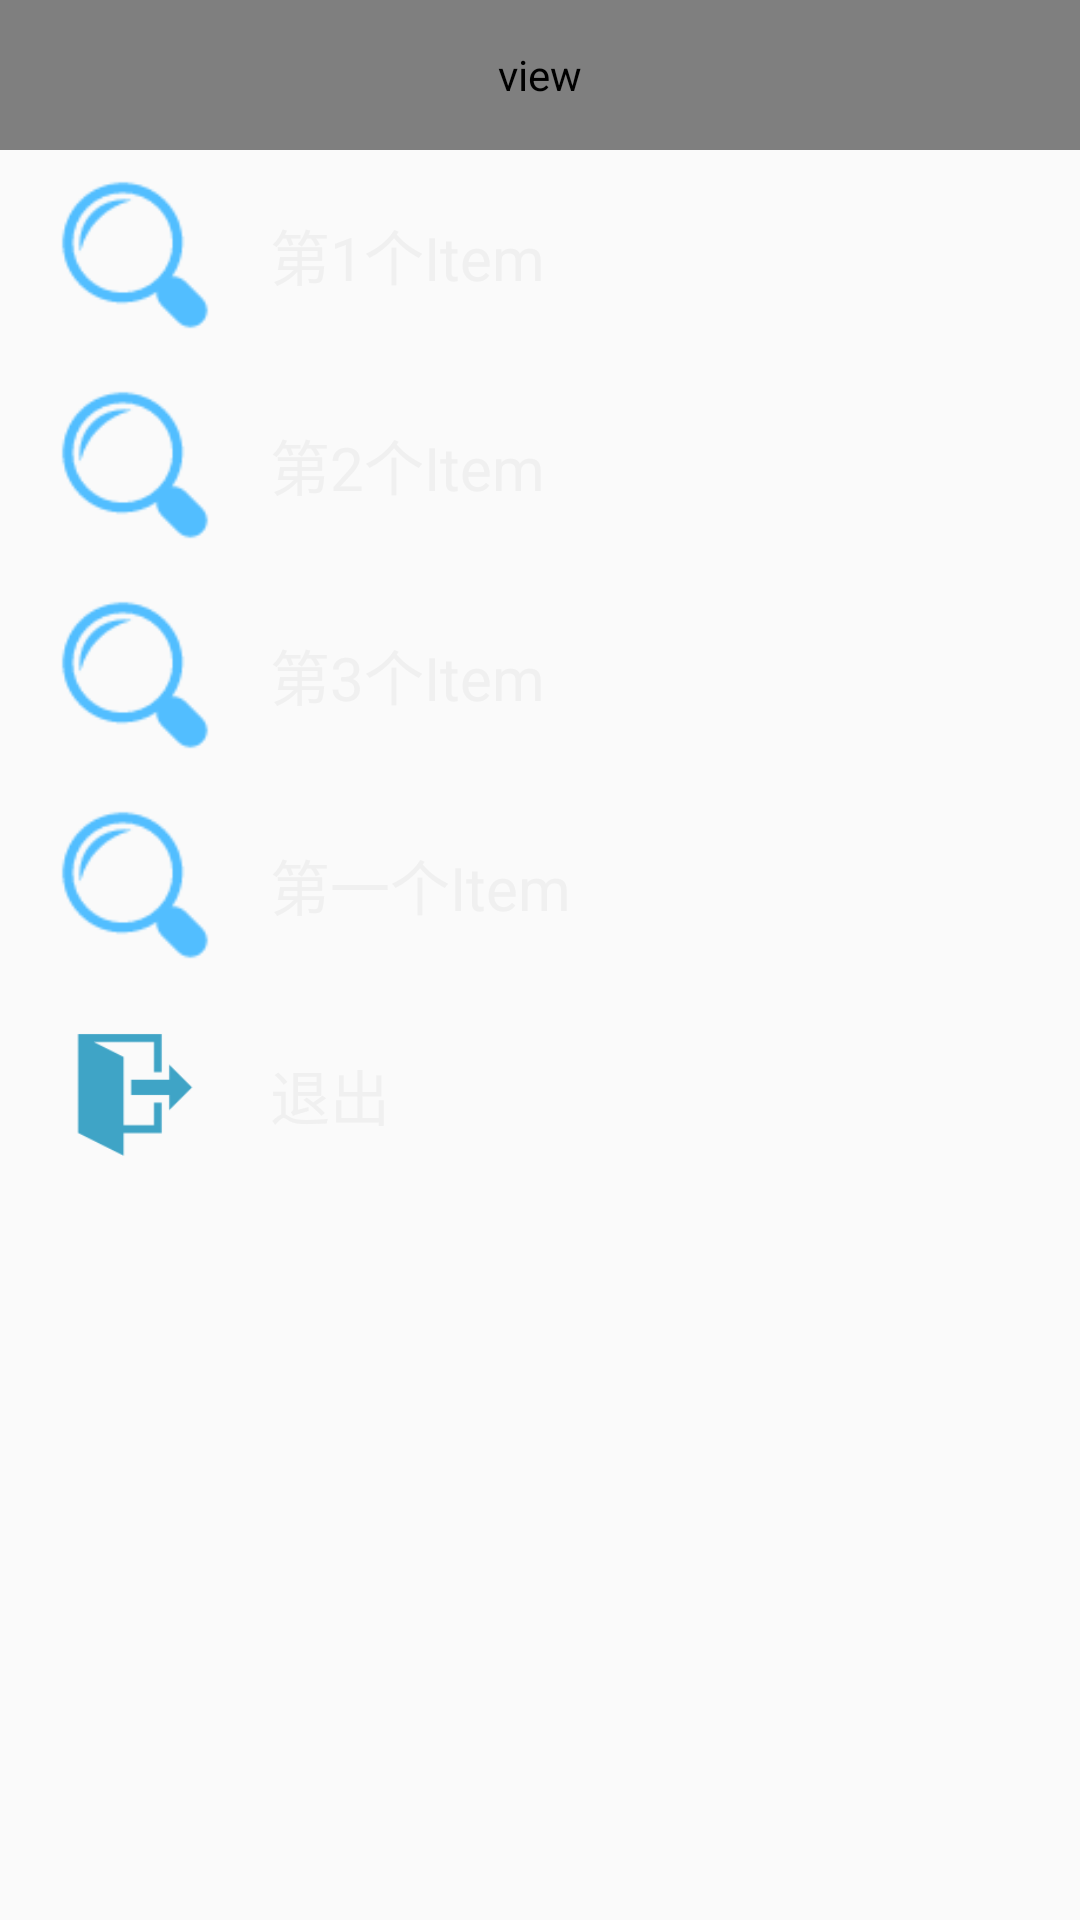

Point at icon controls on the screen. Image size 1080px×1920px, points as (x,y).
kill app: (135,1095)
station search: (135,255), (135,465), (135,675), (135,885)
